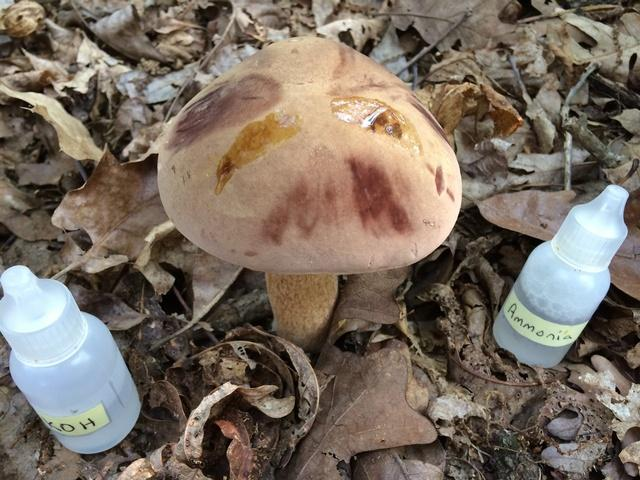poisonous_mushroom: (154, 34, 464, 354)
